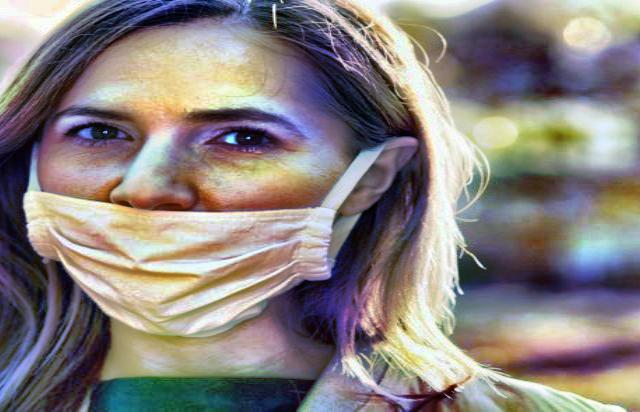mask_weared_incorrect: (20, 1, 457, 341)
